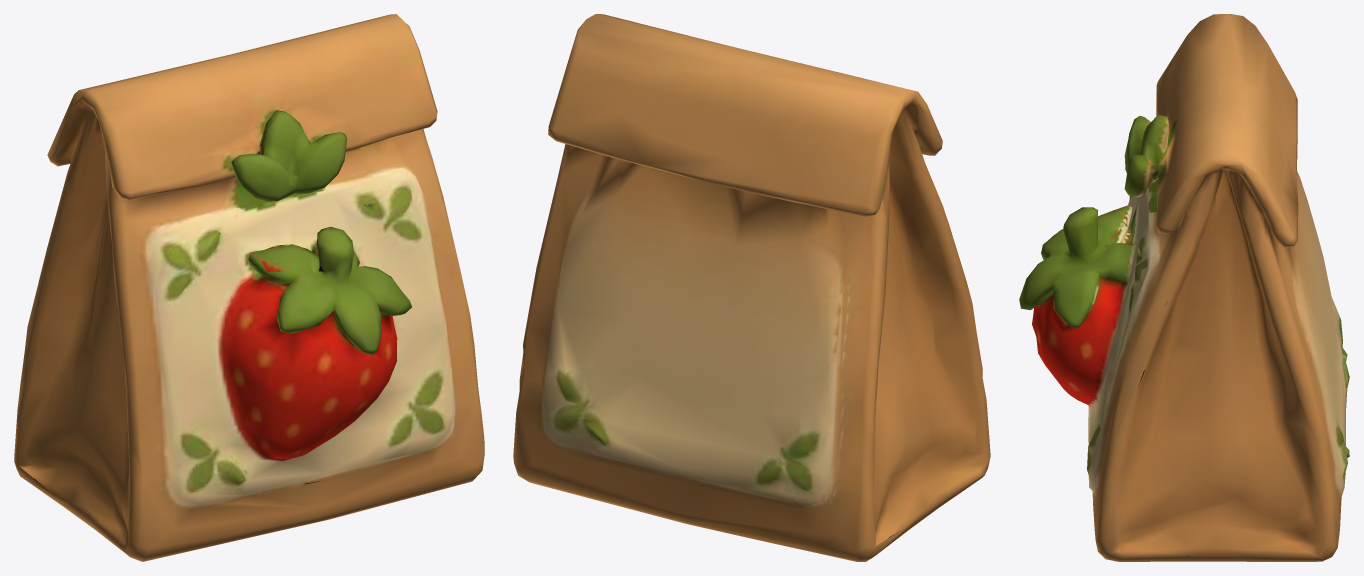
3 renders of one model, left to right at view 1: azimuth 30°, elevation 25°; view 2: azimuth 150°, elevation 25°; view 3: azimuth 270°, elevation 25°, orthographic. The views are drawn at different scales.
Parts seen in each view (by area): view 1: seed-strawberry; view 2: seed-strawberry; view 3: seed-strawberry.
Boxes of the visible parts, x1,y1,x2,y2 form: seed-strawberry: [14, 14, 484, 561]; seed-strawberry: [513, 14, 990, 561]; seed-strawberry: [1019, 14, 1349, 561].
Size of the model in its own units: 0.1309 by 0.15 by 0.1117.
Materials: 1 (1 with a texture image).
